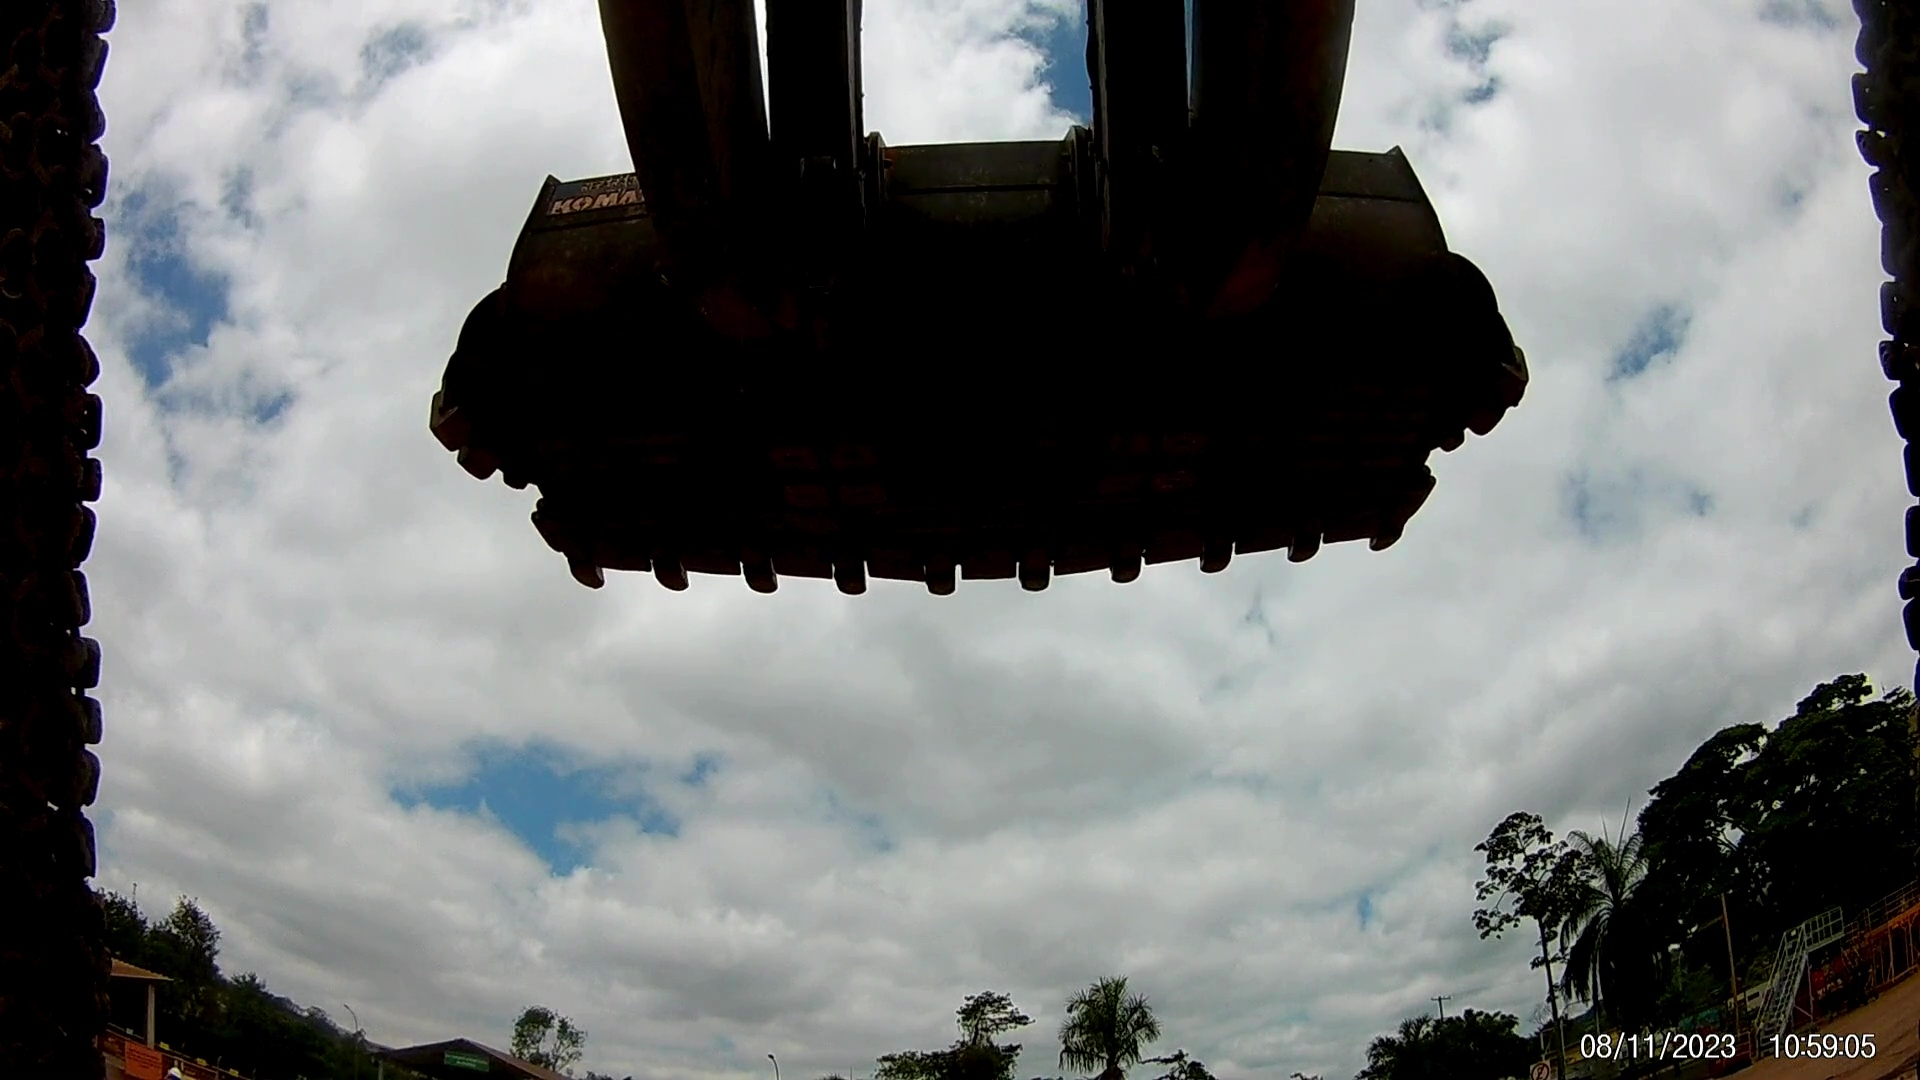FPS: (1251, 505, 1342, 591), (632, 531, 704, 618), (731, 535, 808, 615), (913, 538, 989, 615), (997, 541, 1065, 617), (539, 550, 618, 611), (820, 538, 882, 615), (1187, 510, 1240, 595), (1095, 534, 1154, 603), (1370, 502, 1414, 585)
